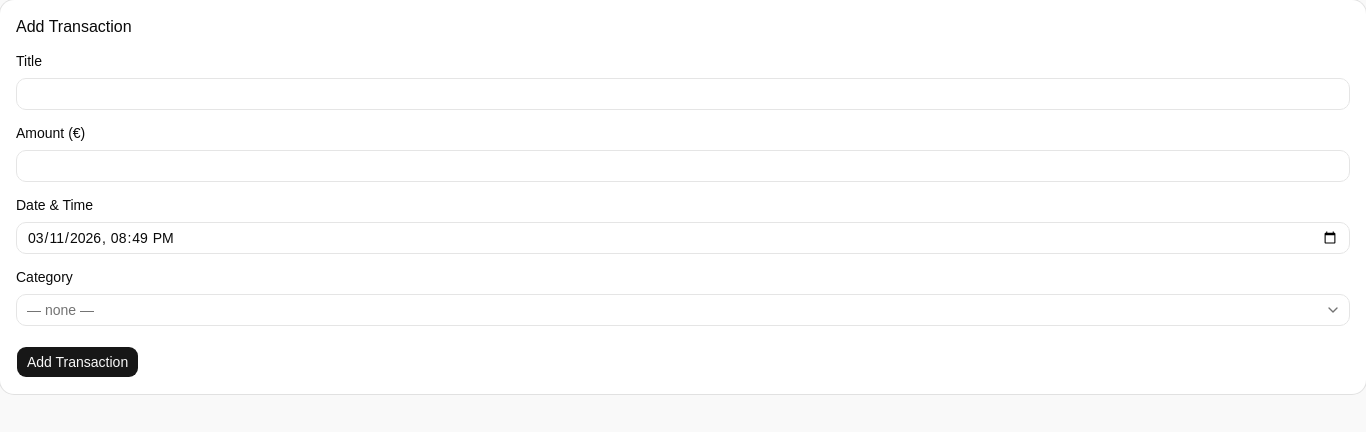
Test case: given the form is submitted with a zero amount › should show an amount validation error
Type "Salary" into the field labelled "Title" at (683, 94), box [16,78,1350,110]
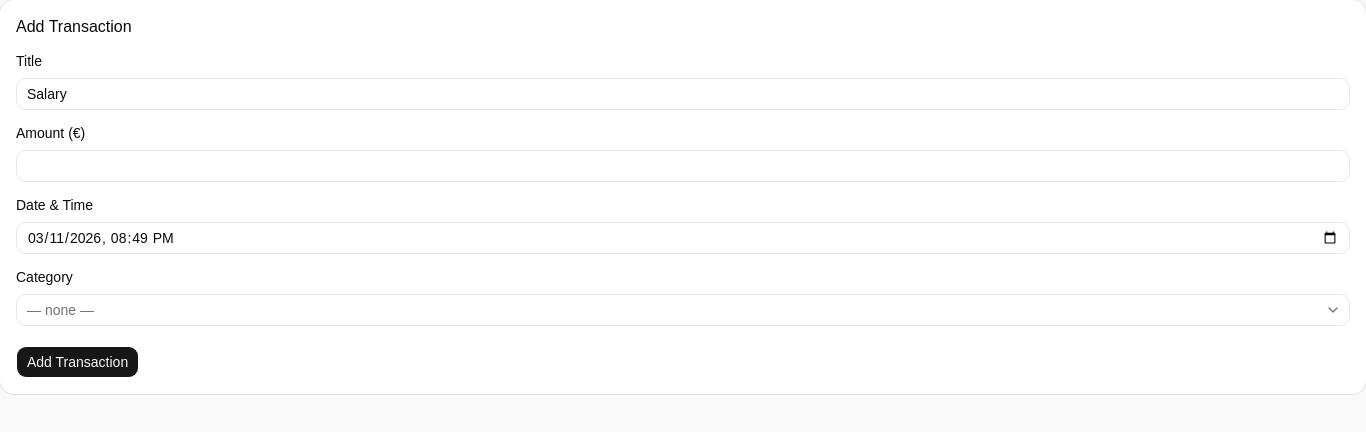
Type "0" into the number field labelled "Amount (€)" at (683, 166), box [16,150,1350,182]
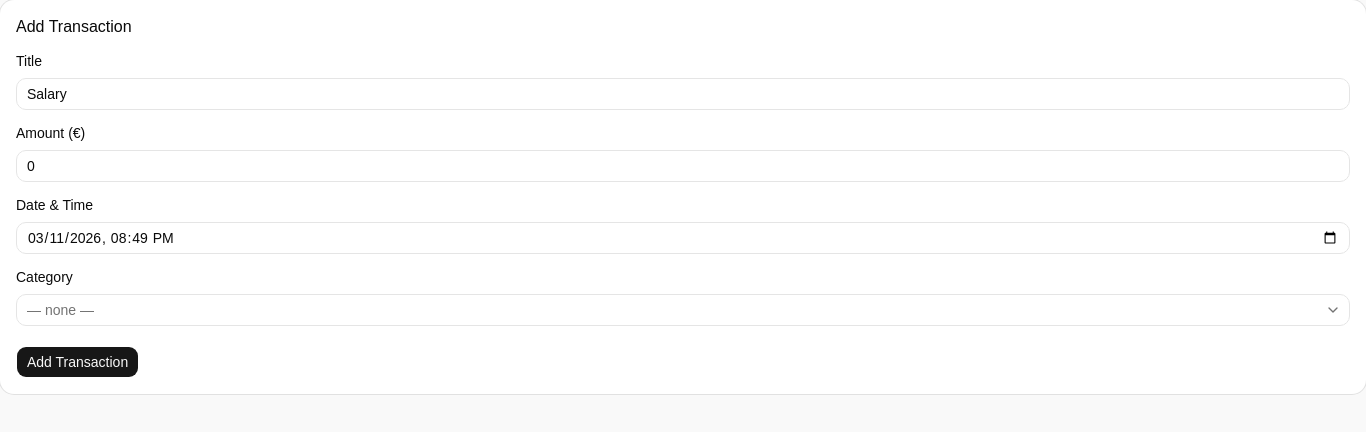
Click the button "Add Transaction" at (78, 362), box [16,346,139,378]
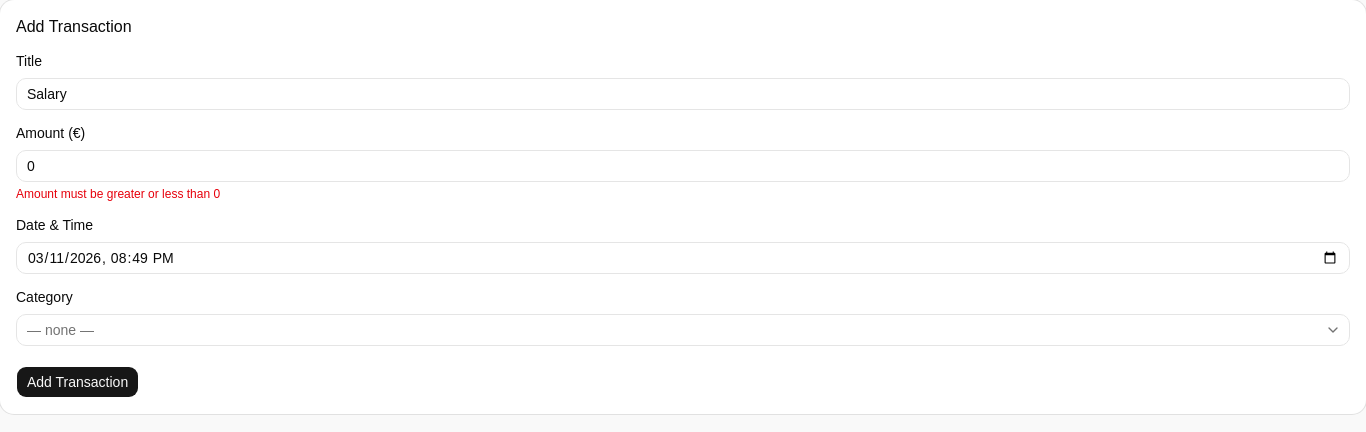
Now the text "Amount must be greater or less than 0" is shown, box [16,187,220,201]
